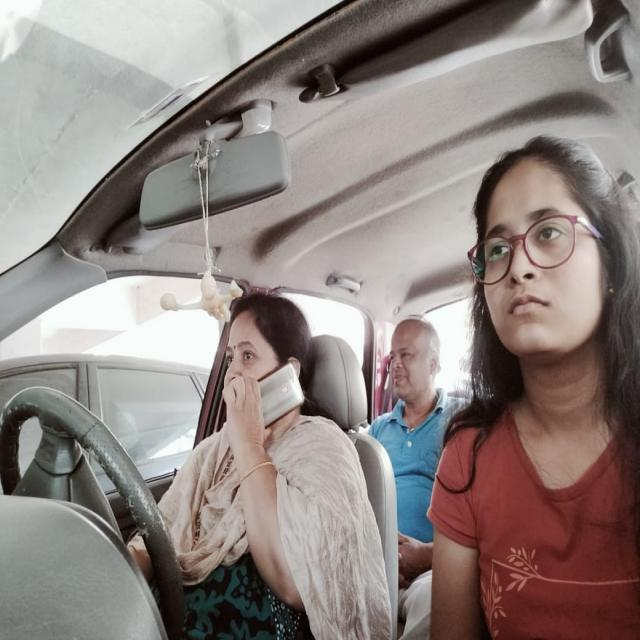mobile: (228, 368, 305, 430)
person: (472, 131, 626, 392), (217, 287, 320, 455), (383, 314, 444, 434)
